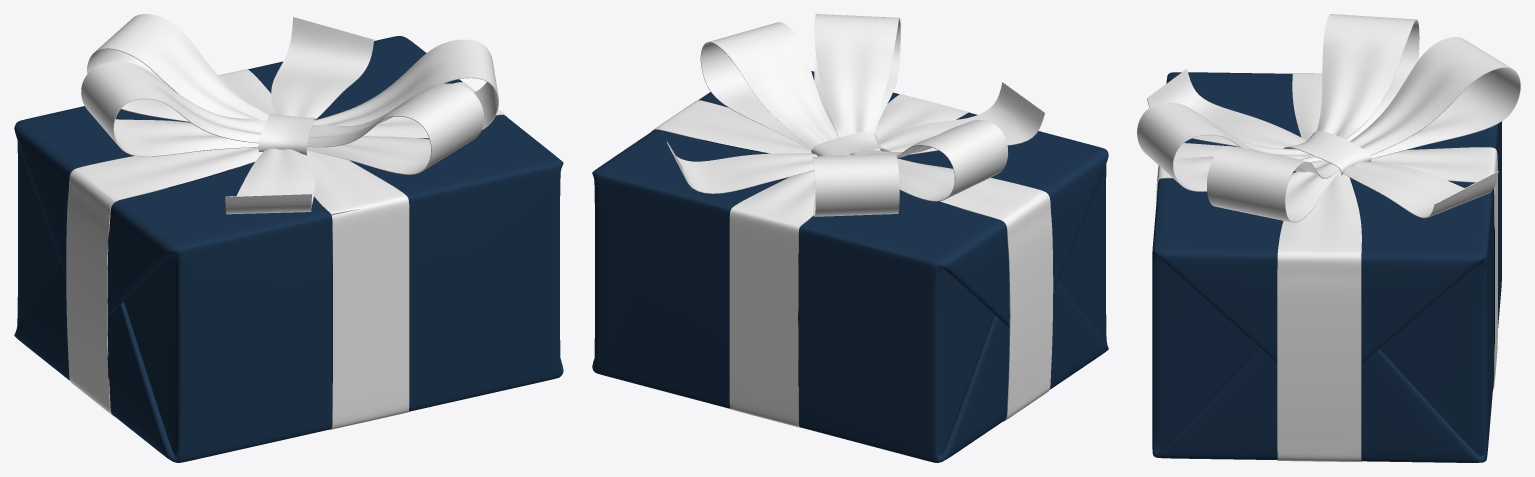
File: present_02.gltf
3 renders of one model, left to right at view 1: azimuth 30°, elevation 25°; view 2: azimuth 150°, elevation 25°; view 3: azimuth 270°, elevation 25°, orthographic. The views are drawn at different scales.
Visible parts, largest first — view 1: present_02; view 2: present_02; view 3: present_02.
Boxes of the visible parts, x1=… form: present_02: x1=14, y1=14, x2=563, y2=462; present_02: x1=592, y1=14, x2=1108, y2=462; present_02: x1=1137, y1=14, x2=1520, y2=462.
Size of the model in its own units: 0.3517 by 0.2489 by 0.3025.
Materials: 1 (1 with a texture image).
